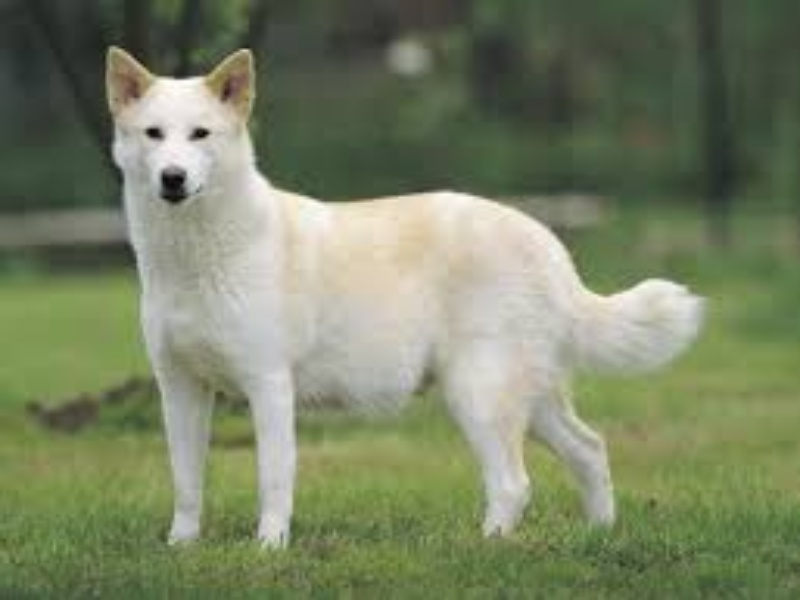dog: (100, 39, 711, 565)
